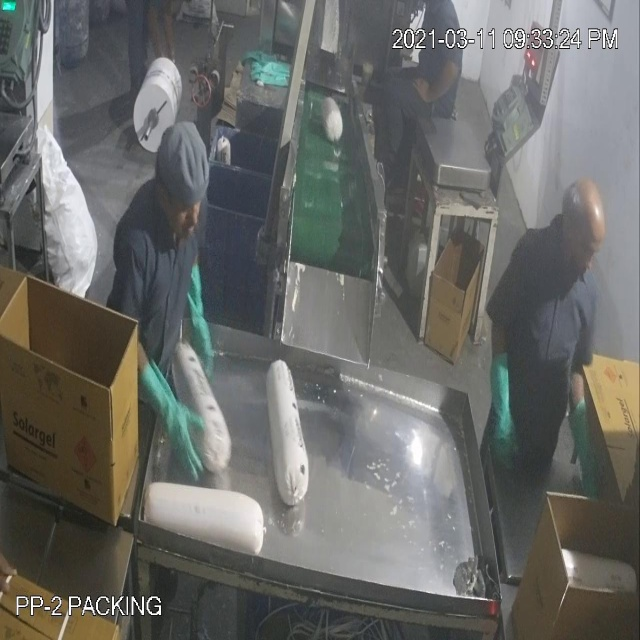Guantes: (481, 340, 528, 489)
Sin_guantes: (411, 56, 470, 112), (149, 1, 164, 69)
